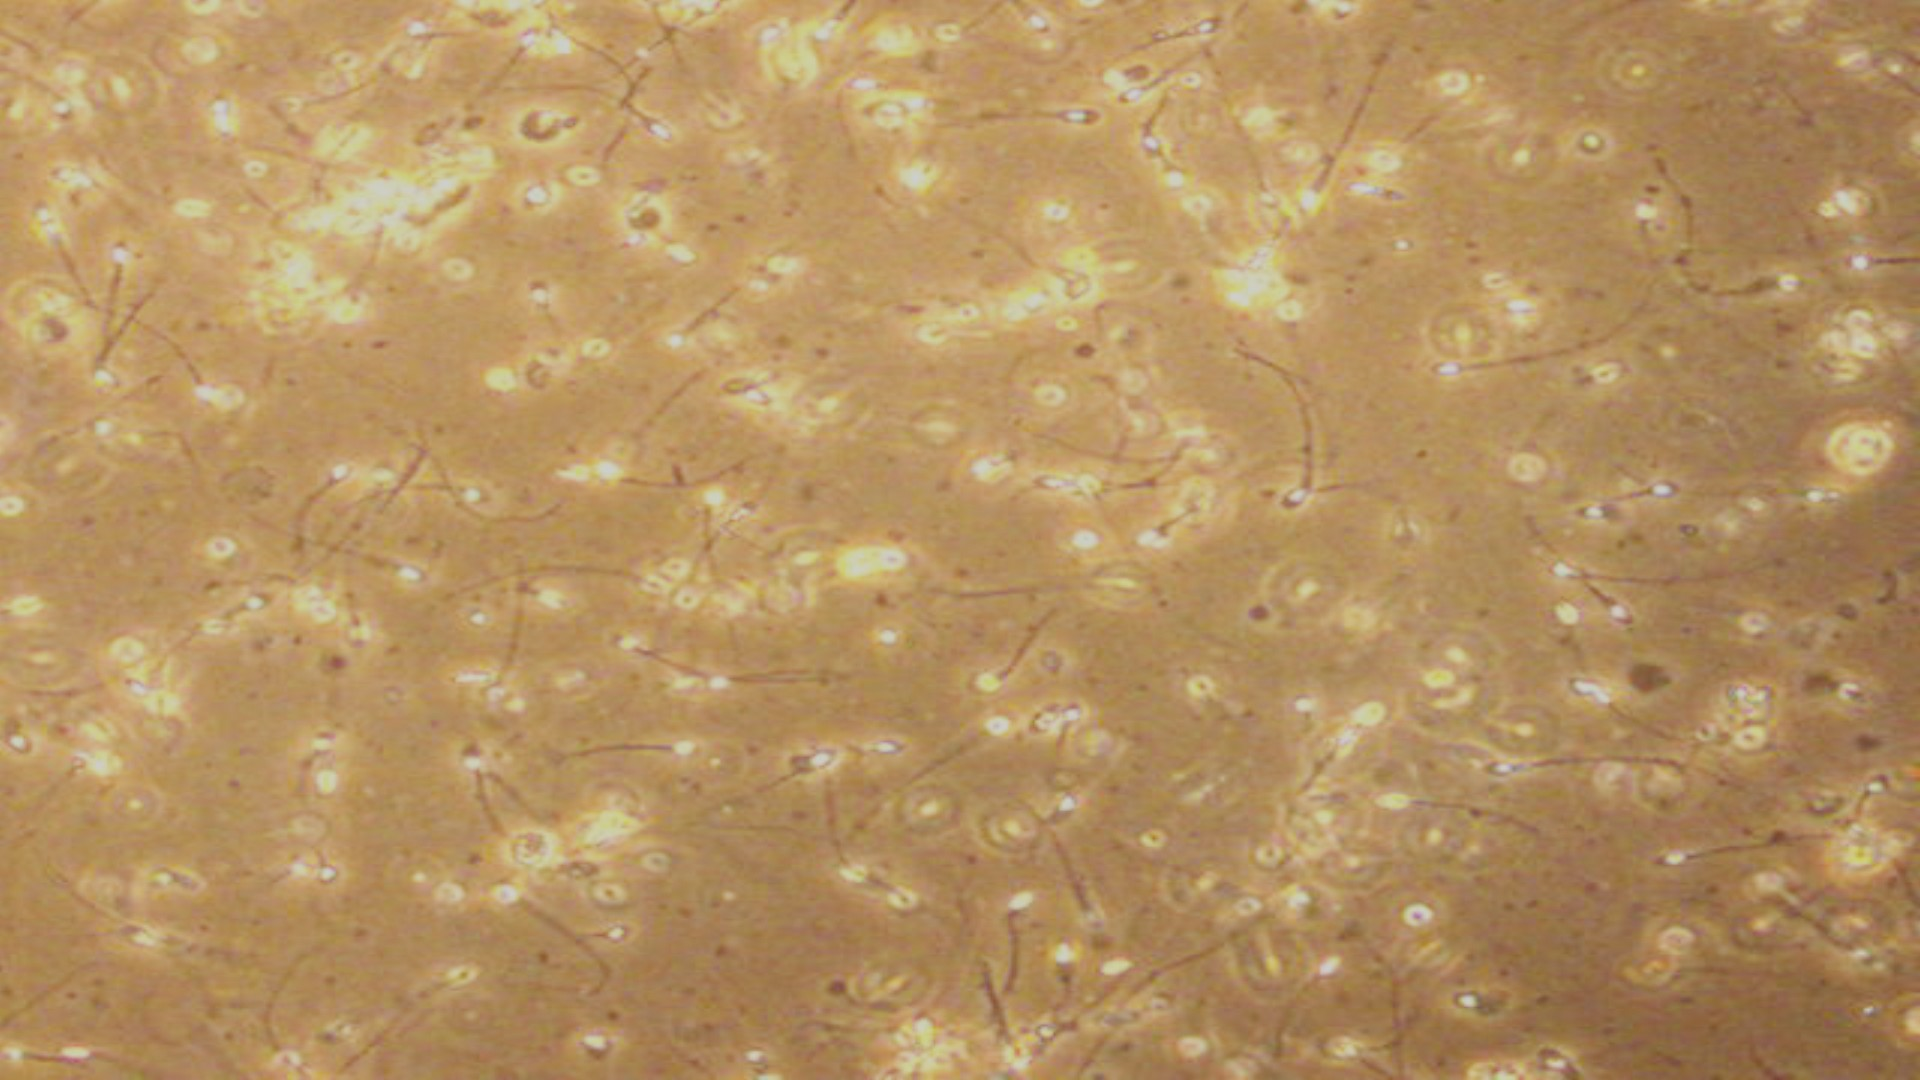sperm: (471, 71, 690, 153), (1489, 735, 1731, 789), (1631, 829, 1799, 906), (1513, 531, 1691, 603), (1658, 243, 1803, 324), (674, 481, 777, 588), (1263, 381, 1332, 539), (713, 746, 840, 822), (578, 450, 736, 509), (462, 626, 554, 727), (1291, 105, 1361, 235), (647, 273, 760, 353), (1425, 342, 1557, 409), (563, 729, 713, 785), (443, 746, 527, 839), (75, 231, 146, 334), (299, 446, 363, 549), (959, 84, 1104, 129), (320, 531, 434, 585), (1029, 931, 1089, 1029), (642, 640, 742, 696), (531, 273, 589, 371), (76, 318, 138, 409), (164, 328, 231, 404), (956, 699, 1015, 782), (1559, 556, 1639, 613), (986, 886, 1033, 984), (1584, 483, 1697, 513), (796, 735, 913, 764)
